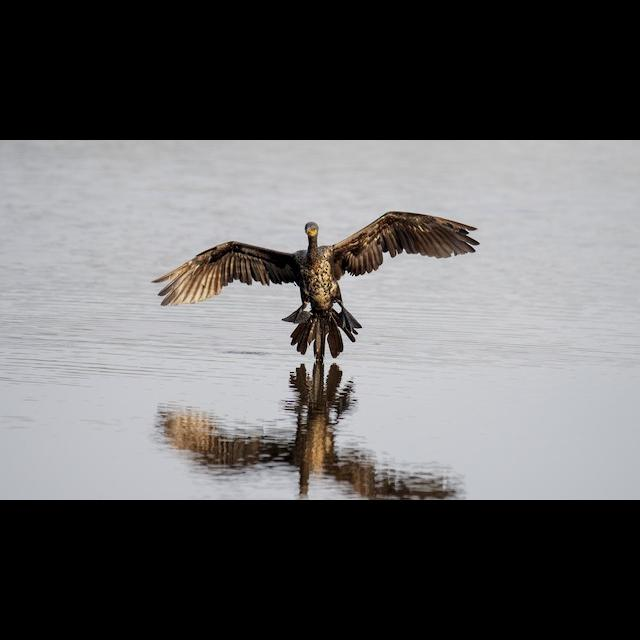cormorant: (143, 204, 483, 366)
